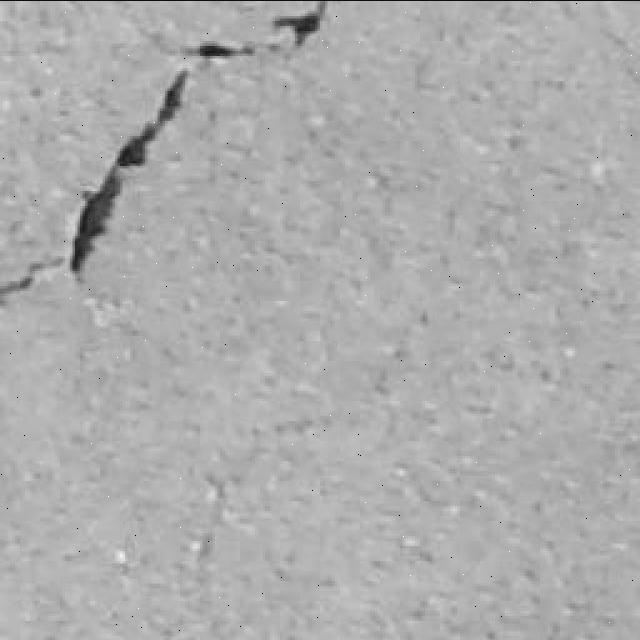crack: (0, 15, 375, 272)
